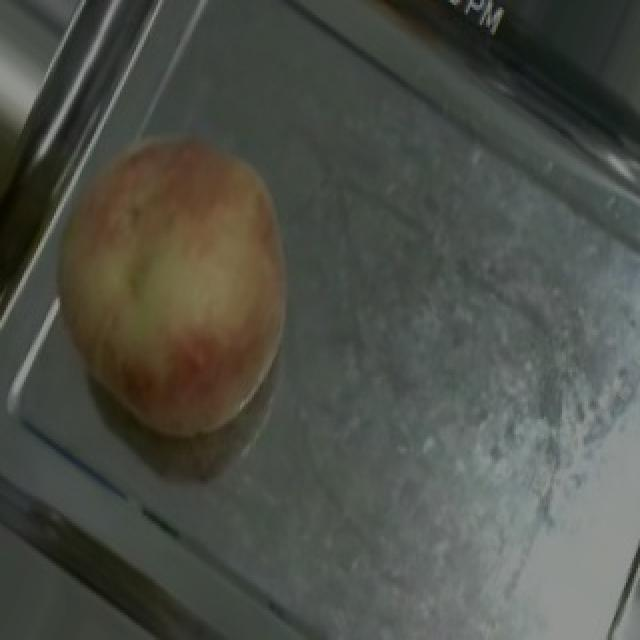Fruit: (12, 87, 340, 489)
